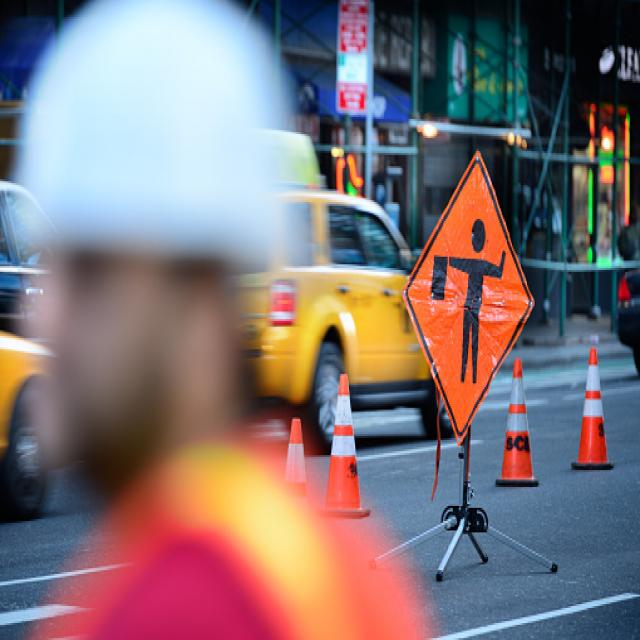cone: (320, 366, 378, 521), (564, 334, 618, 481), (496, 345, 548, 493)
